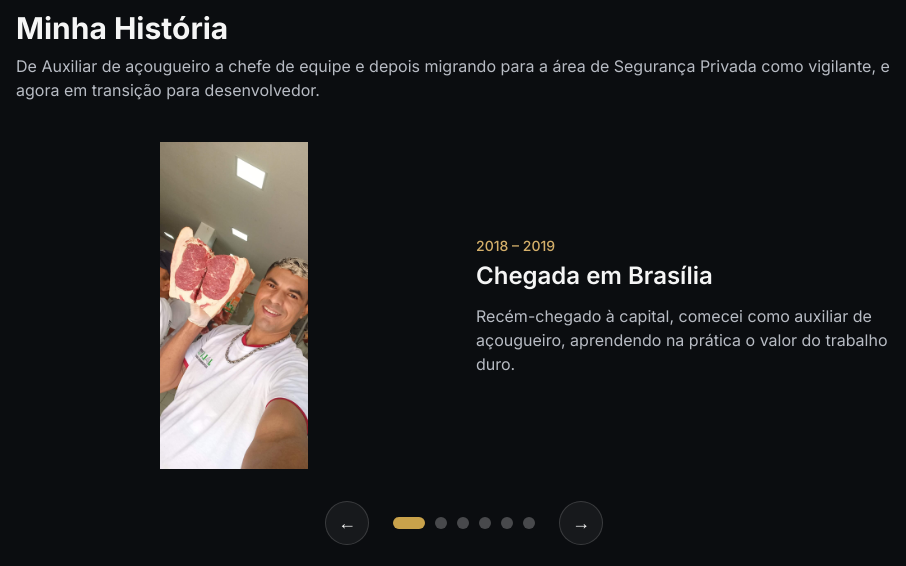
Test case: StoryCarousel › advances to the next slide on click
The image size is (906, 566).
Step 1. Click the button named "Próximo slide" → (581, 523), box [559,501,603,545]
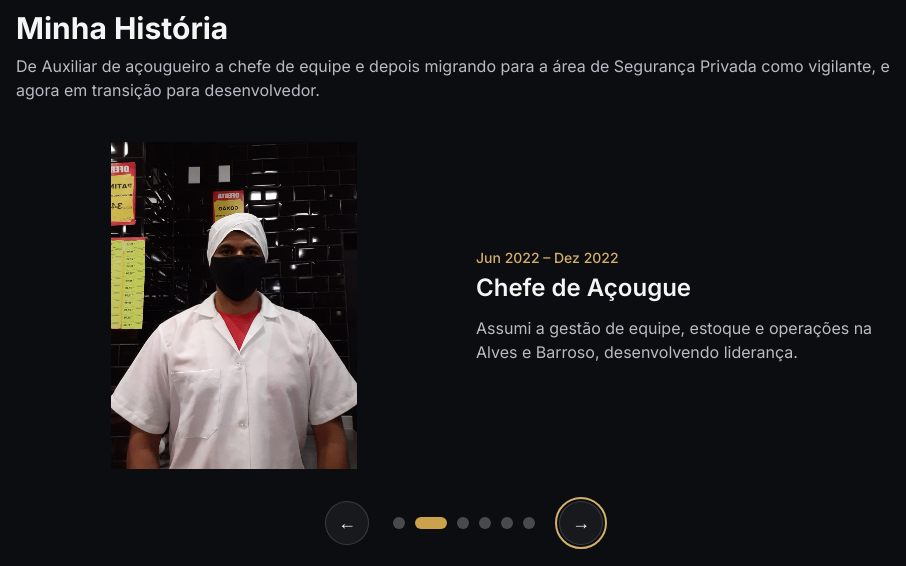
Now the heading "Chefe de Açougue" is shown, box [476,272,691,302]
